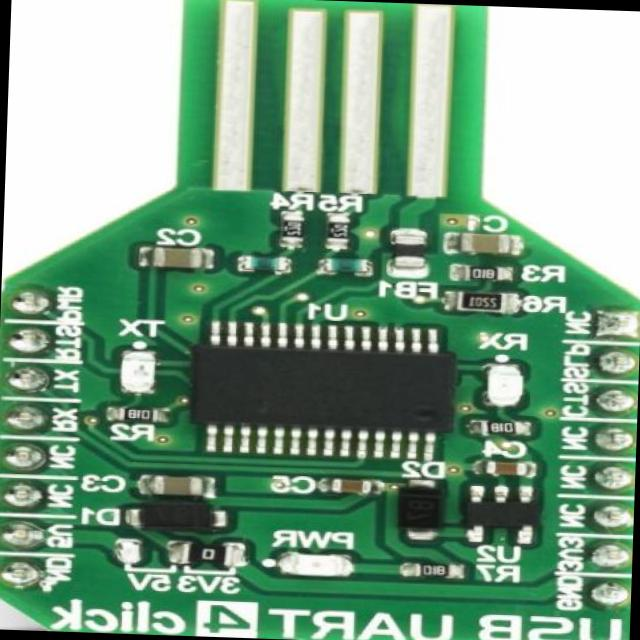IC: (188, 323, 456, 452), (456, 483, 544, 547)
LED: (479, 362, 530, 410), (274, 550, 344, 580), (114, 349, 158, 394)
capacitor: (142, 470, 209, 498), (446, 230, 516, 254), (147, 248, 206, 270), (324, 480, 379, 496), (482, 458, 532, 474)
diode: (123, 501, 214, 532), (394, 480, 442, 536)
resistor: (443, 289, 512, 315), (176, 542, 234, 570), (480, 416, 530, 436), (455, 264, 510, 280), (114, 404, 156, 424), (322, 217, 353, 244), (236, 254, 288, 270), (320, 256, 368, 271), (411, 562, 454, 578), (278, 213, 303, 240)
